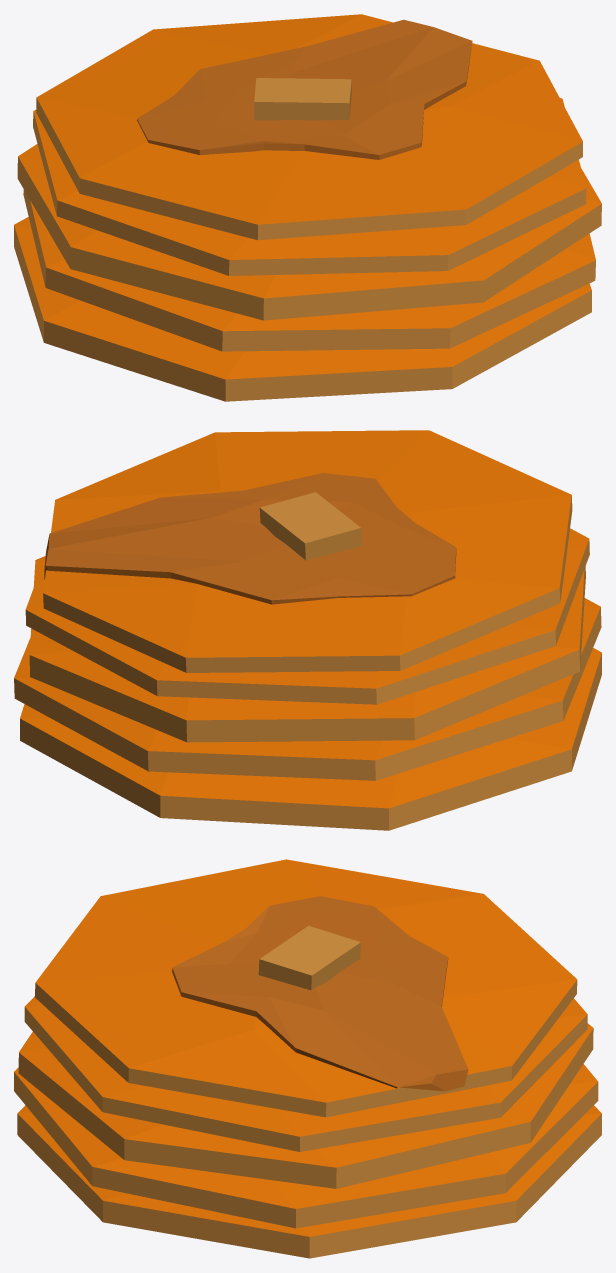
The model's file is SM_Food_Pancakes_01.fbx.
3 views of the same model, one above another, from view 1: azimuth 30°, elevation 25°; view 2: azimuth 150°, elevation 25°; view 3: azimuth 270°, elevation 25° (orthographic). The views are drawn at different scales.
Visible parts, largest first — view 1: SM_Food_Pancakes_01; view 2: SM_Food_Pancakes_01; view 3: SM_Food_Pancakes_01.
Part boxes in pixels (box(x1,y1,x2,y2)): SM_Food_Pancakes_01: box(14, 14, 601, 401); SM_Food_Pancakes_01: box(14, 430, 601, 830); SM_Food_Pancakes_01: box(14, 859, 601, 1258).
Bounding box in the file's own units: 0.2192 × 0.0818 × 0.2183.
